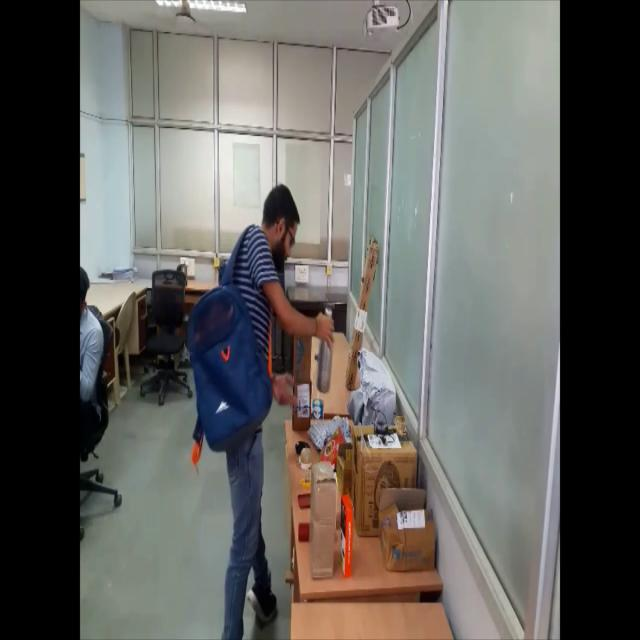normal: (185, 141, 336, 640)
